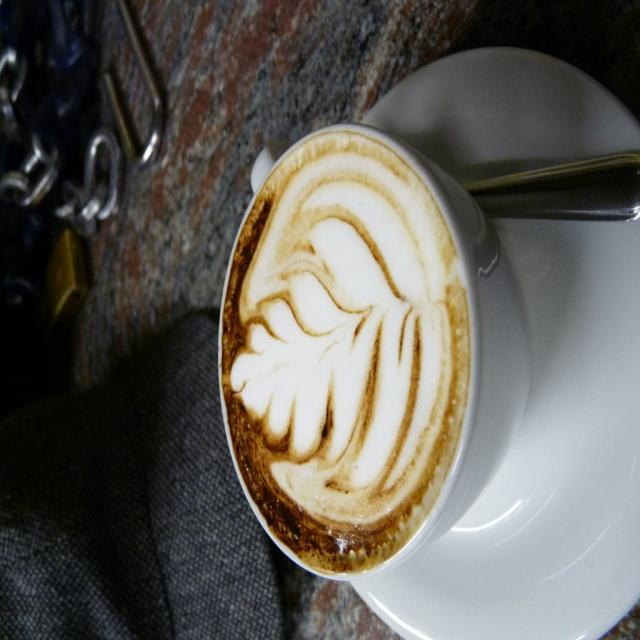Coffee: (221, 130, 477, 578)
